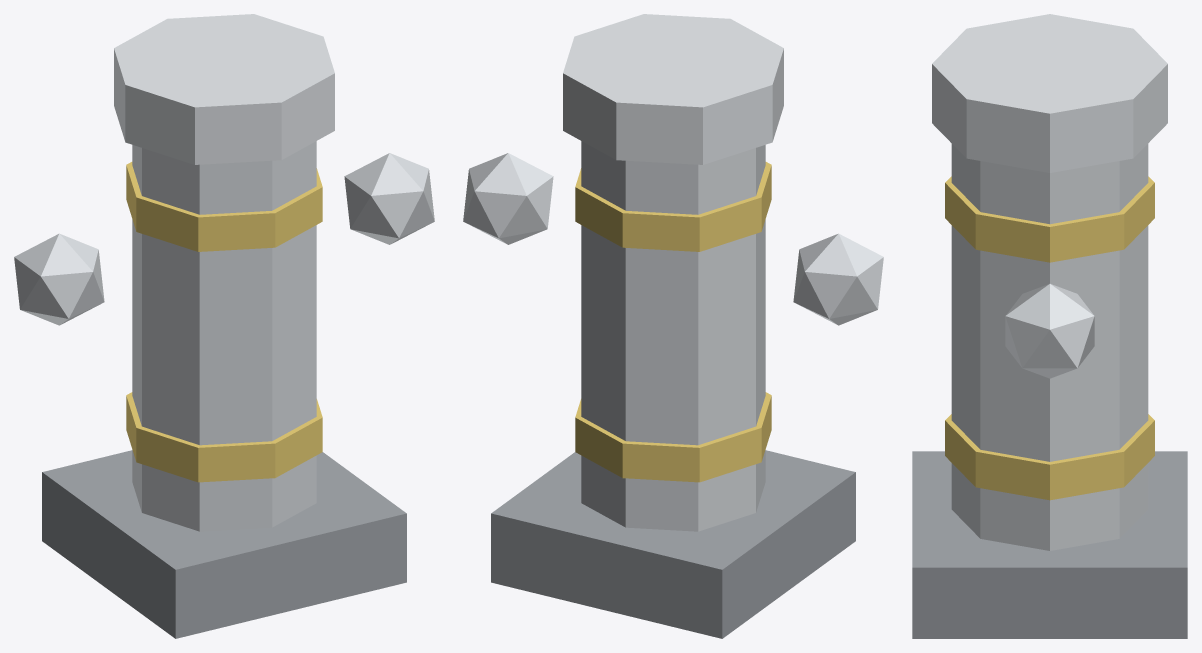
The model's file is street_bollard.glb.
The picture shows the model from 3 angles, left to right: view 1: azimuth 30°, elevation 25°; view 2: azimuth 150°, elevation 25°; view 3: azimuth 270°, elevation 25°; orthographic projection. The views are drawn at different scales.
Visible parts, largest first — view 1: post.002, base.005, cap, band_0.001, band_1.001, ring_0, ring_1; view 2: post.002, base.005, cap, band_0.001, band_1.001, ring_0, ring_1; view 3: post.002, base.005, cap, band_0.001, band_1.001, ring_1.
Boxes of the visible parts, <box> form: post.002: <box>132,141,316,531</box>; base.005: <box>42,450,406,638</box>; cap: <box>114,14,334,164</box>; band_0.001: <box>126,392,322,482</box>; band_1.001: <box>126,162,322,251</box>; ring_0: <box>14,233,104,325</box>; ring_1: <box>344,153,434,244</box>; post.002: <box>581,141,765,531</box>; base.005: <box>491,450,855,638</box>; cap: <box>563,14,783,164</box>; band_0.001: <box>575,392,771,482</box>; band_1.001: <box>575,162,771,251</box>; ring_0: <box>793,233,883,325</box>; ring_1: <box>463,153,553,244</box>; post.002: <box>951,144,1148,550</box>; base.005: <box>912,451,1187,638</box>; cap: <box>932,14,1167,172</box>; band_0.001: <box>945,414,1154,500</box>; band_1.001: <box>945,176,1154,262</box>; ring_1: <box>1005,284,1094,378</box>.
Bounding box in the file's own units: 0.7431 × 0.87 × 0.42.
